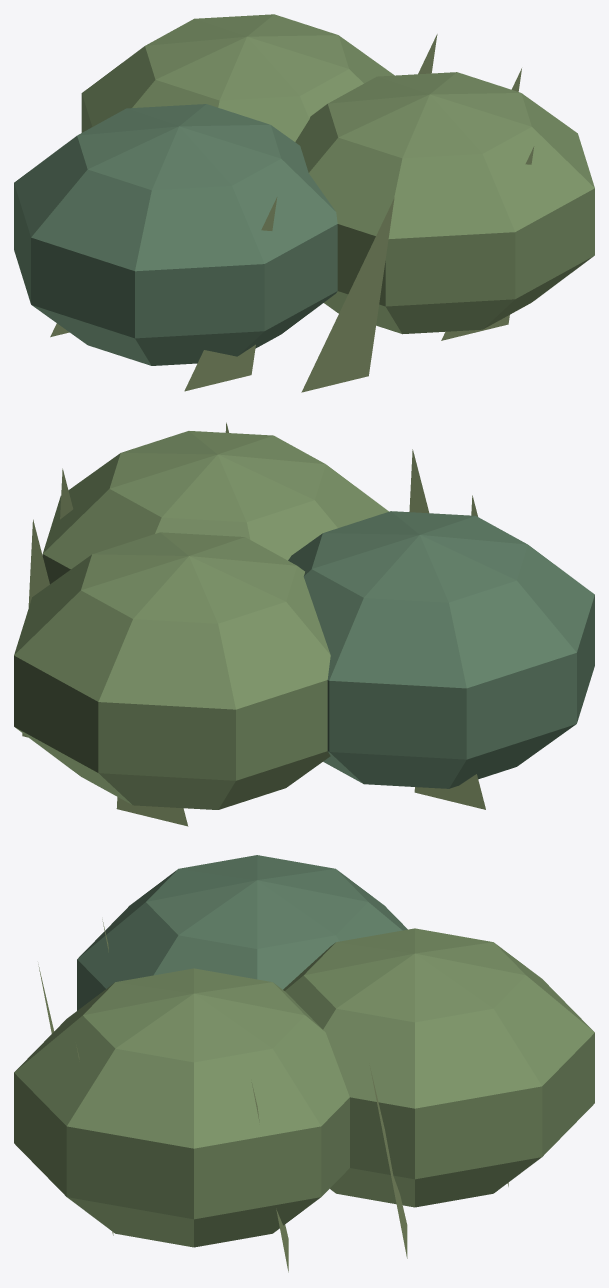
The model's file is bush-wild.glb.
3 renders of one model, top to bottom at view 1: azimuth 30°, elevation 25°; view 2: azimuth 150°, elevation 25°; view 3: azimuth 270°, elevation 25°, orthographic. The views are drawn at different scales.
Parts seen in each view (by area): view 1: bush-wild; view 2: bush-wild; view 3: bush-wild.
Boxes of the visible parts, left/top/right/bottom form: bush-wild: left=14, top=14, right=594, bottom=392; bush-wild: left=14, top=422, right=594, bottom=826; bush-wild: left=14, top=855, right=594, bottom=1272.
Size of the model in its own units: 1.99 by 0.8 by 1.84.
